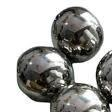ironball: (9, 42, 81, 100), (50, 4, 110, 63), (52, 82, 111, 111), (95, 51, 111, 100)
